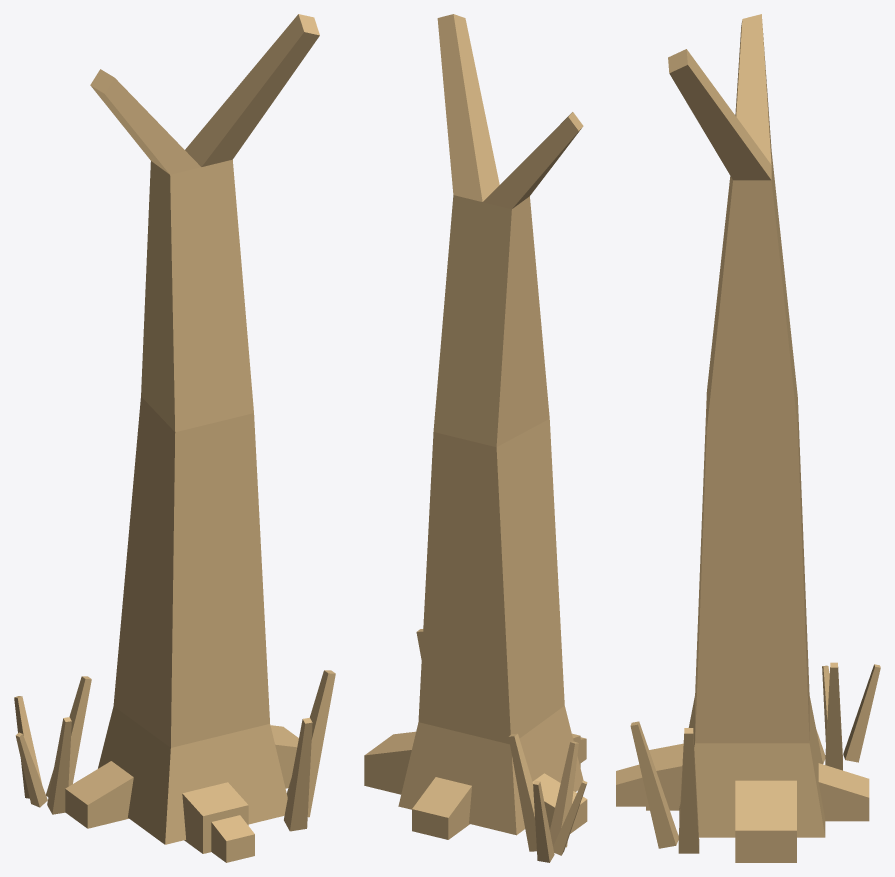
Rendered from Mega_Asset_s_Pack_Cube_139.FBX.
3 views of the same model, side by side, from view 1: azimuth 30°, elevation 25°; view 2: azimuth 150°, elevation 25°; view 3: azimuth 270°, elevation 25° (orthographic). The views are drawn at different scales.
Parts seen in each view (by area): view 1: Mega_Asset_s_Pack_Cube_139; view 2: Mega_Asset_s_Pack_Cube_139; view 3: Mega_Asset_s_Pack_Cube_139.
Part boxes in pixels (<box>): Mega_Asset_s_Pack_Cube_139: <box>14,14,335,862</box>; Mega_Asset_s_Pack_Cube_139: <box>364,14,587,862</box>; Mega_Asset_s_Pack_Cube_139: <box>616,14,880,862</box>.
Size of what is drawn, in the model's own units: 183 by 166 by 555.
